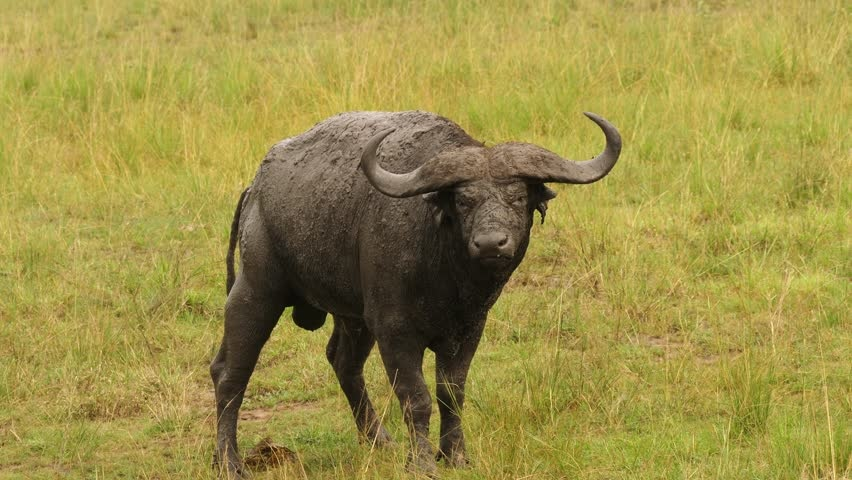buffalo: (207, 108, 623, 474)
